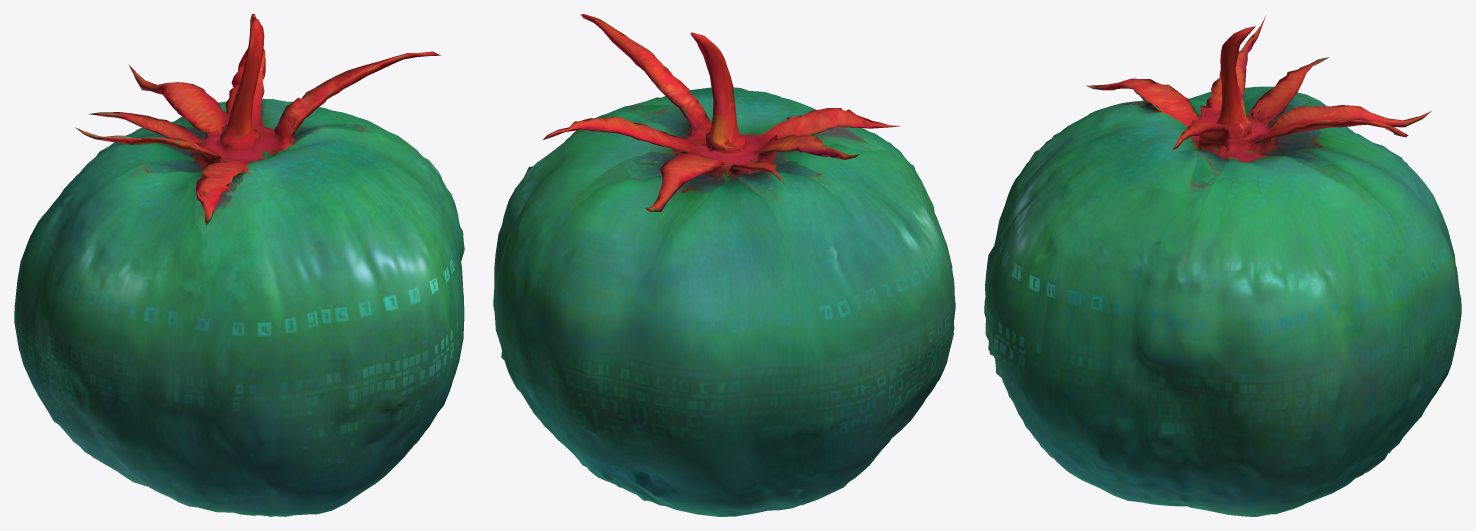
Rendered from tomato.glb.
3 views of the same model, side by side, from view 1: azimuth 30°, elevation 25°; view 2: azimuth 150°, elevation 25°; view 3: azimuth 270°, elevation 25° (orthographic). The views are drawn at different scales.
Bounding box in the file's own units: 1.85 × 2 × 1.82.
1 material, 1 textured.
